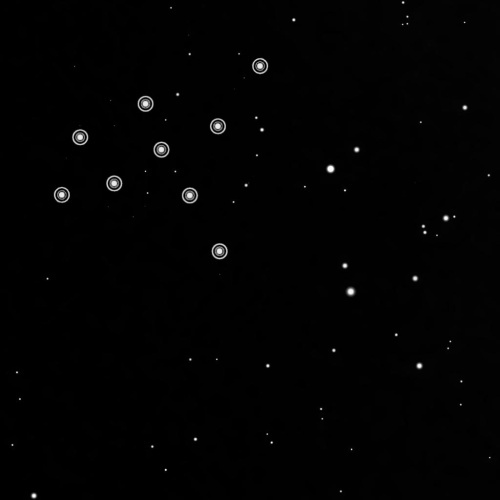cygnus: (50, 52, 271, 266)
